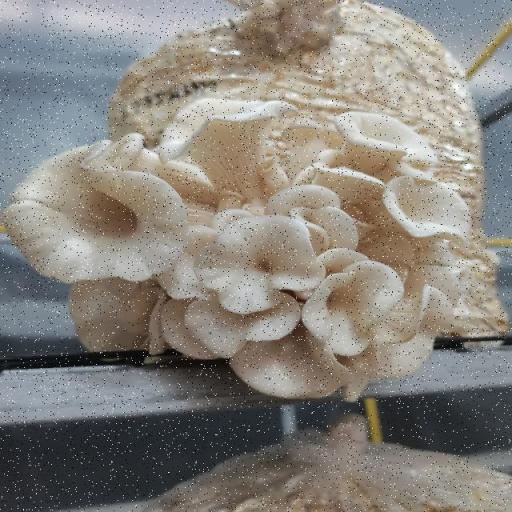White Oyster Mushroom: (0, 74, 483, 418)
